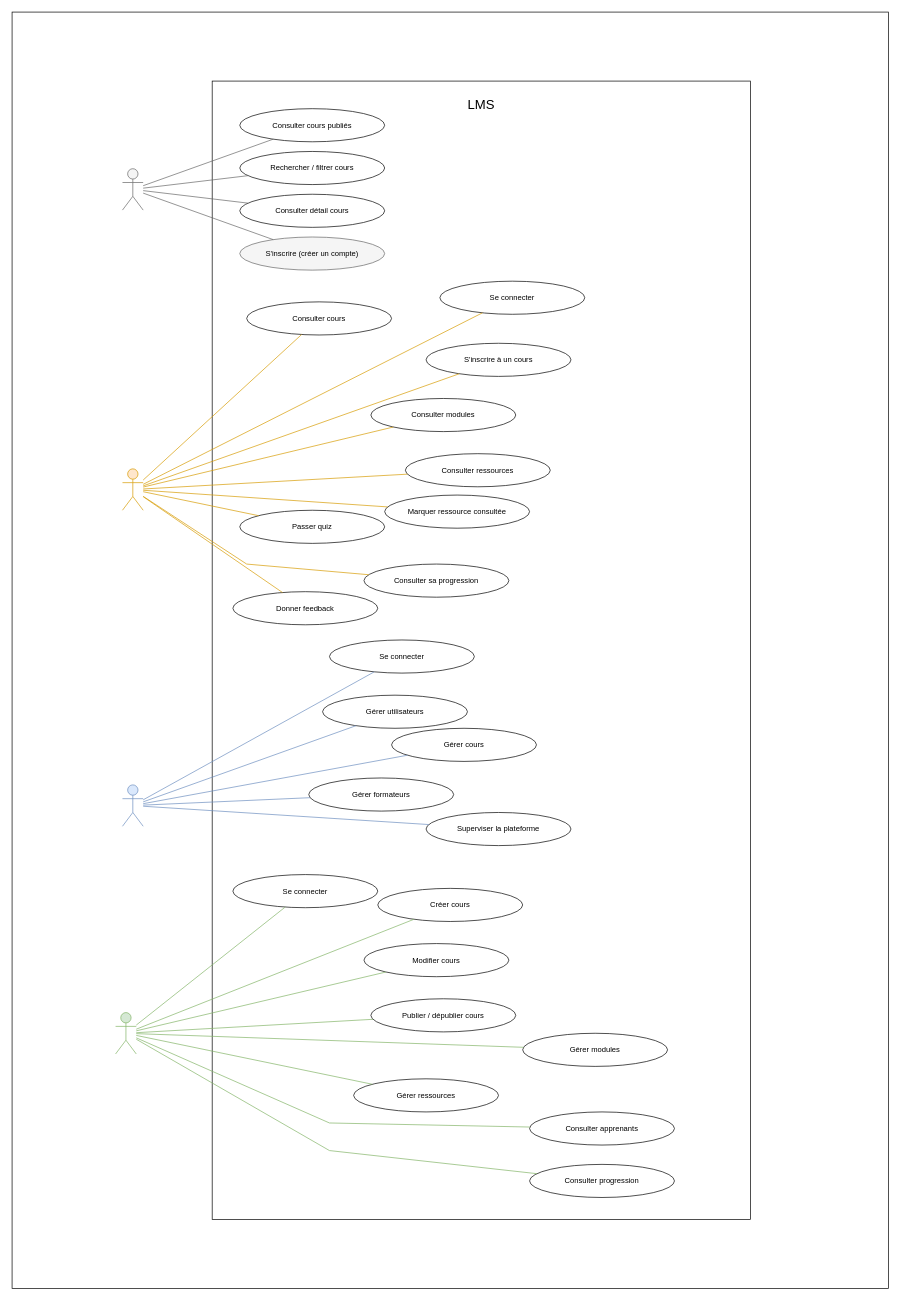
Image size: 900x1301. Some labels were removed from this diagram. Each missing label, with the centre of its shape:
"Admin" belongs at (132,805).
"Apprenant" belongs at (132,489).
"Formateur" belongs at (125,1033).
"Visiteur" belongs at (132,189).
